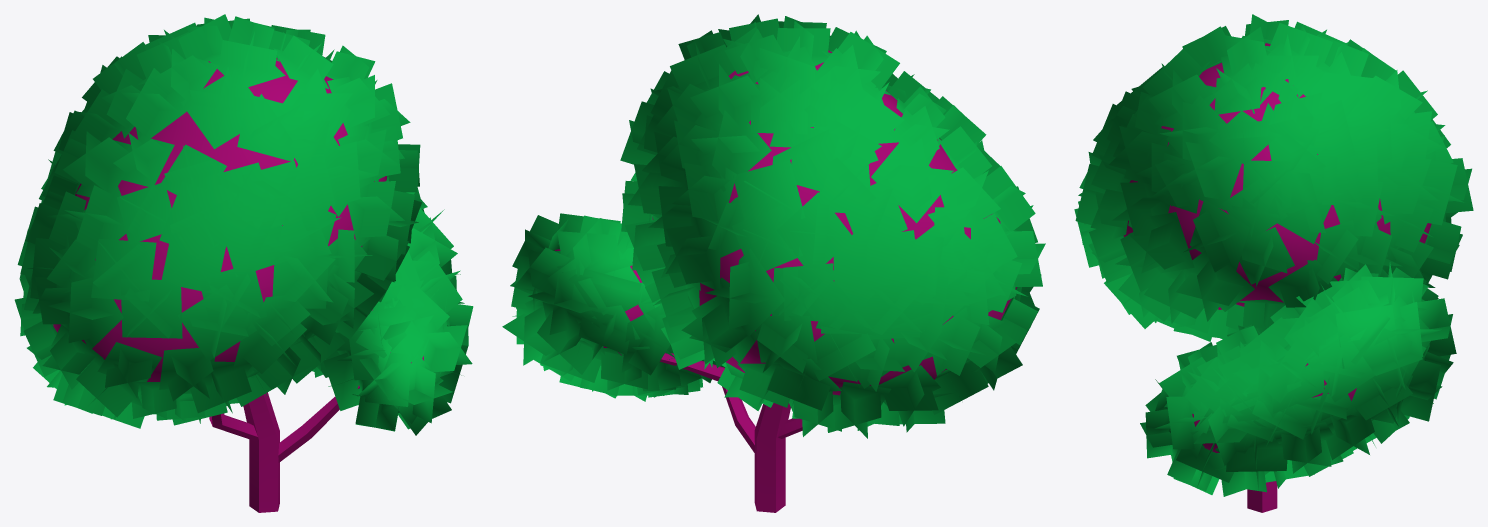
The model's file is Tree.fbx.
The picture shows the model from 3 angles, left to right: view 1: azimuth 30°, elevation 25°; view 2: azimuth 150°, elevation 25°; view 3: azimuth 270°, elevation 25°; orthographic projection. The views are drawn at different scales.
Visible parts, largest first — view 1: Tree; view 2: Tree; view 3: Tree.
Boxes of the visible parts, <box> form: Tree: <box>14,14,473,512</box>; Tree: <box>502,14,1045,512</box>; Tree: <box>1074,14,1473,512</box>.
Size of the model in its own units: 30.94 by 32.51 by 25.3.
